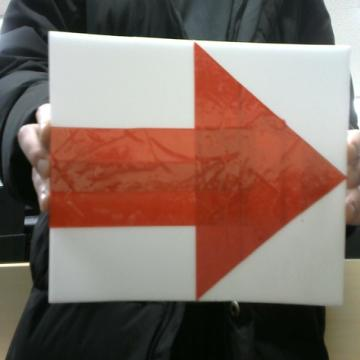red_right: (51, 44, 344, 298)
